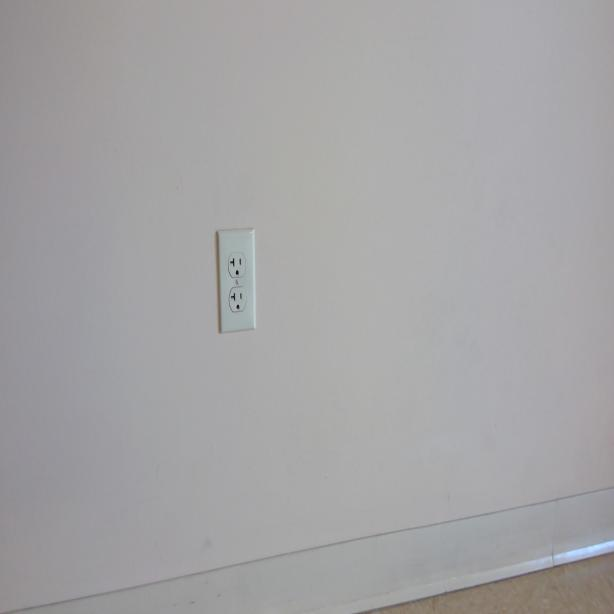typeb: (228, 255, 244, 279), (229, 290, 247, 310)
